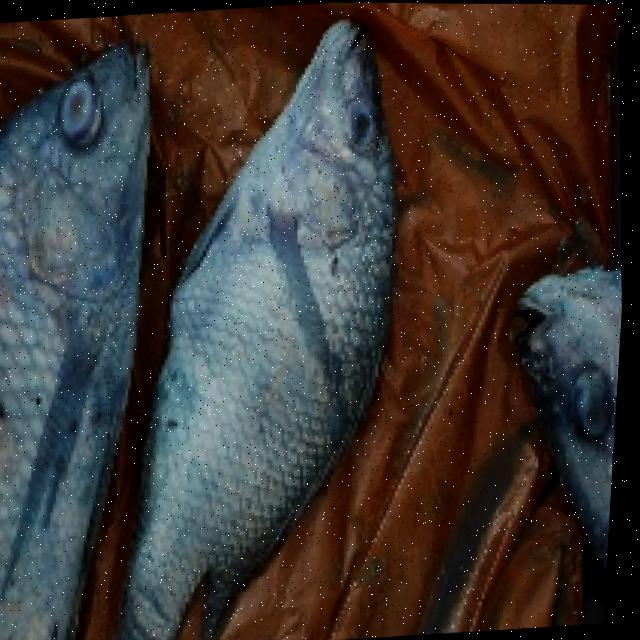Non-Fresh: (162, 10, 434, 574), (0, 47, 190, 556), (545, 334, 625, 459)
